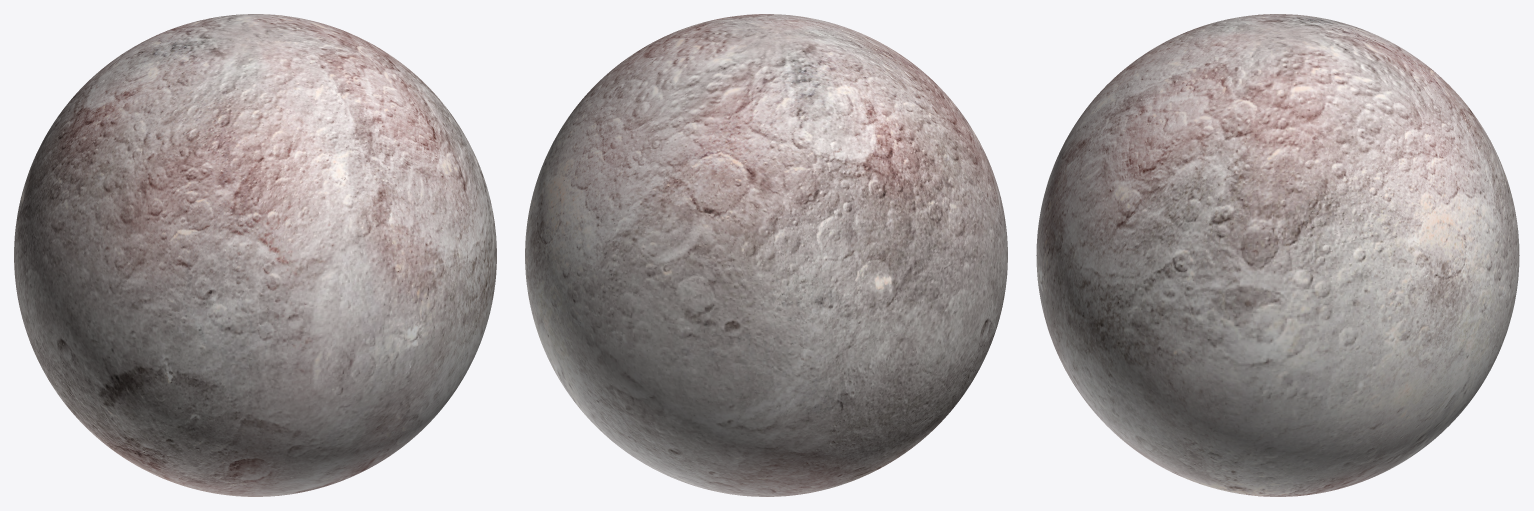
Rendered from eris.glb.
The picture shows the model from 3 angles, left to right: view 1: azimuth 30°, elevation 25°; view 2: azimuth 150°, elevation 25°; view 3: azimuth 270°, elevation 25°; orthographic projection.
Visible parts, largest first — view 1: eris_globe; view 2: eris_globe; view 3: eris_globe.
Boxes of the visible parts, left/top/right/bottom form: eris_globe: left=14, top=14, right=496, bottom=496; eris_globe: left=525, top=14, right=1007, bottom=496; eris_globe: left=1036, top=14, right=1519, bottom=496.
Size of the model in its own units: 2 by 2 by 2.
1 material, 1 textured.
